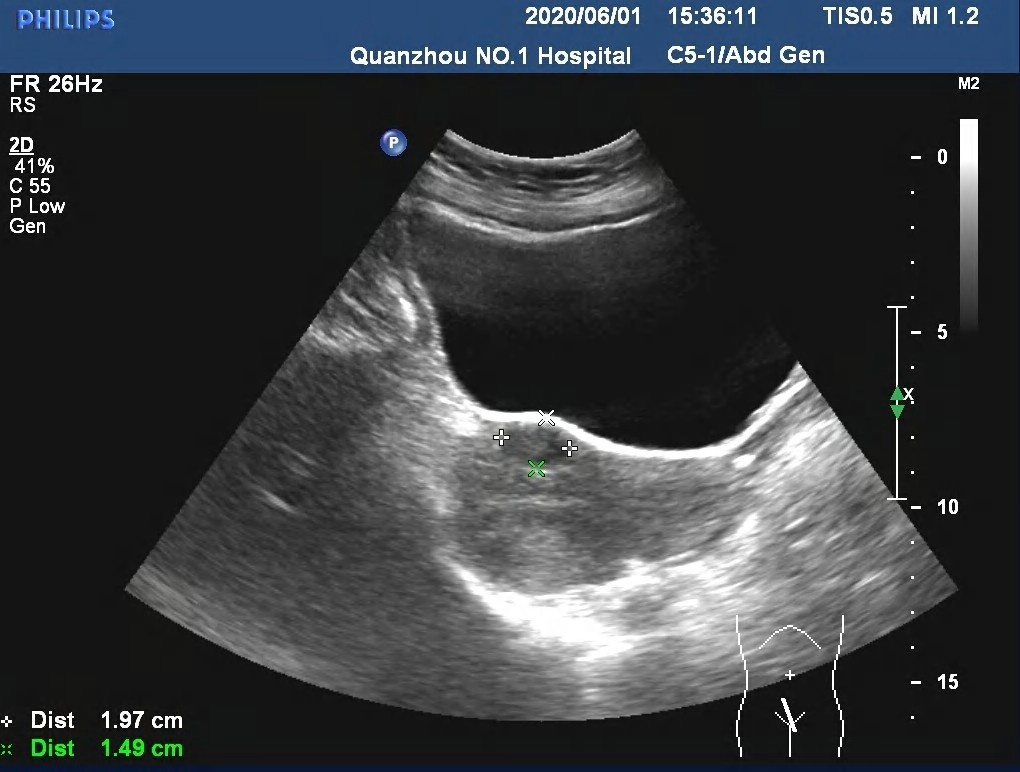肌瘤: (502, 423, 569, 468)
